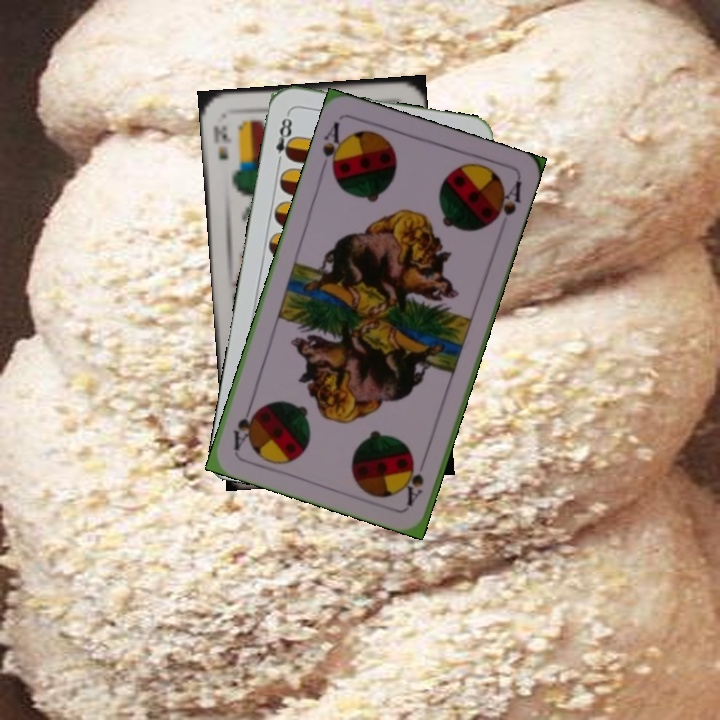E8: (271, 109, 297, 168)
EK: (208, 121, 234, 163)
SA: (316, 117, 349, 178), (402, 450, 430, 508)
